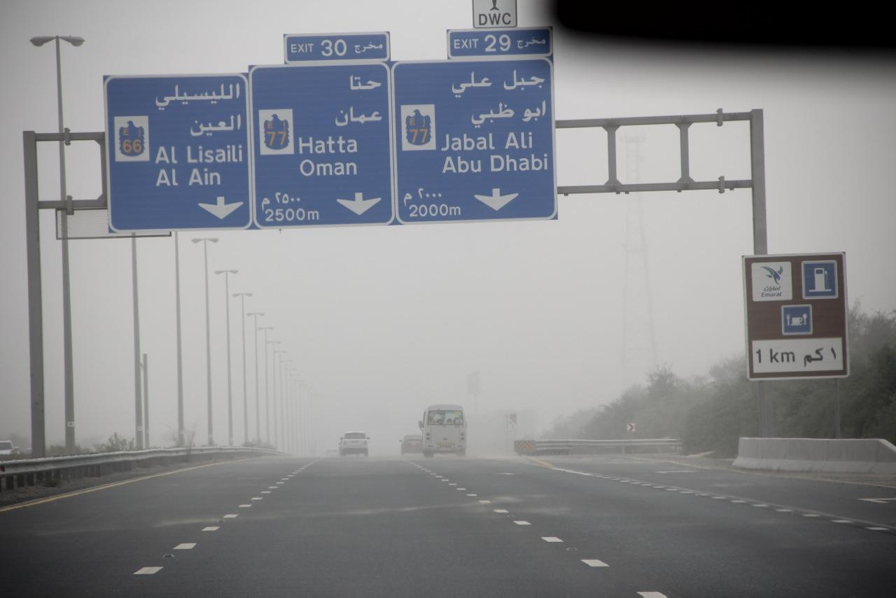bus: (418, 404, 468, 458)
car: (340, 431, 370, 457), (338, 436, 361, 458), (399, 435, 424, 455), (1, 439, 20, 461), (324, 449, 339, 459)
